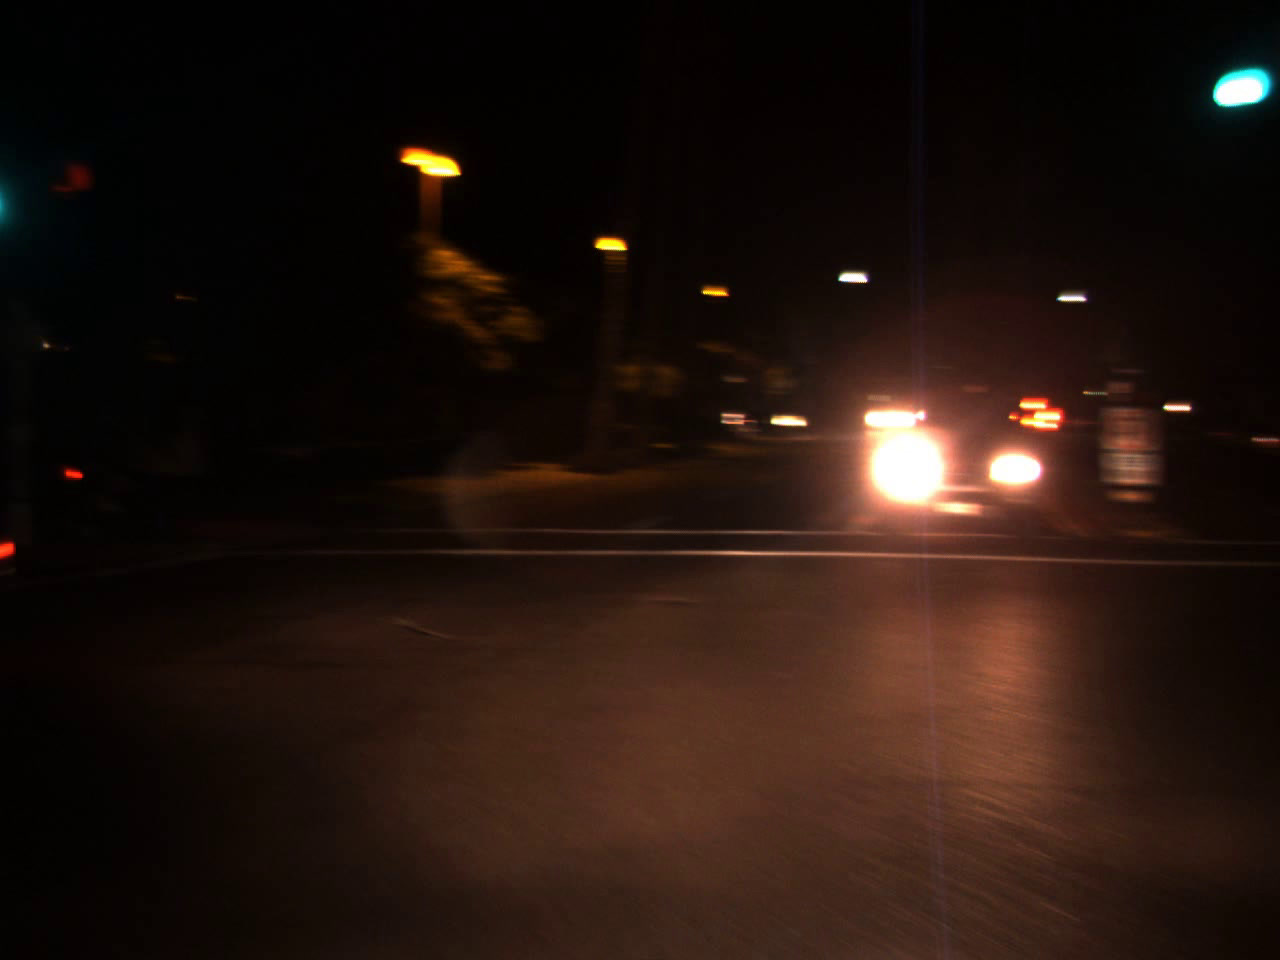go: (1201, 32, 1278, 116)
